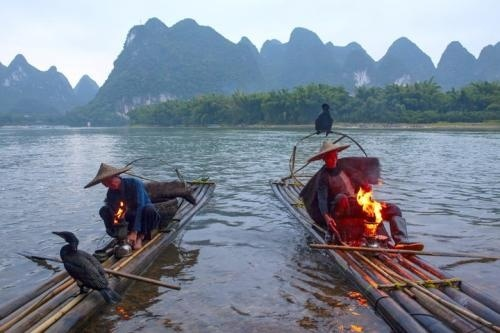fire: (355, 185, 384, 231), (110, 199, 128, 225)
